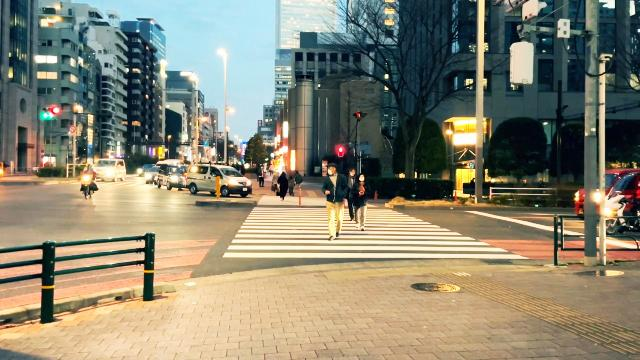berjalan: (324, 164, 348, 240), (349, 172, 371, 231)
